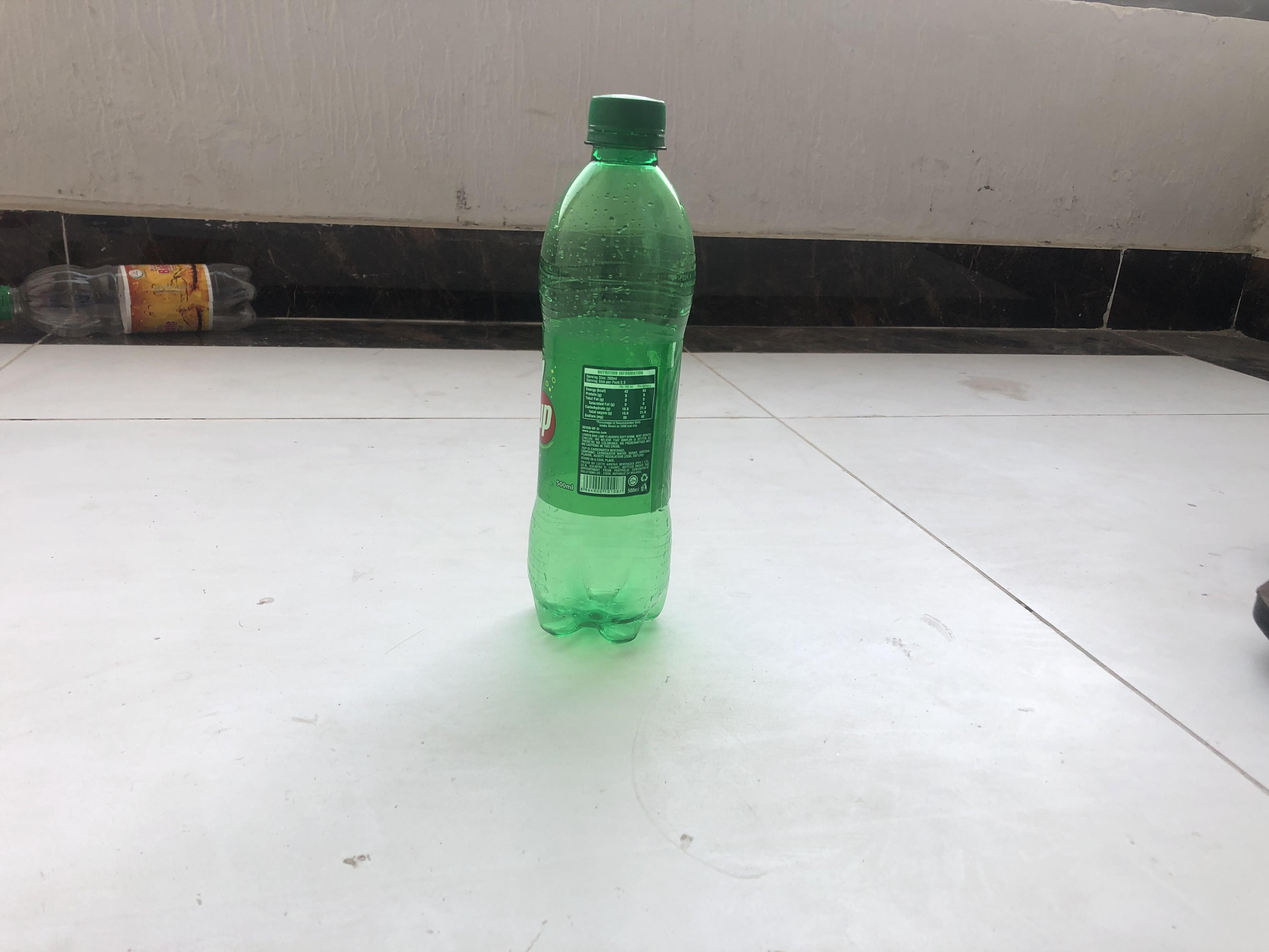bottle-plastic: (531, 89, 700, 654), (0, 257, 265, 340)
